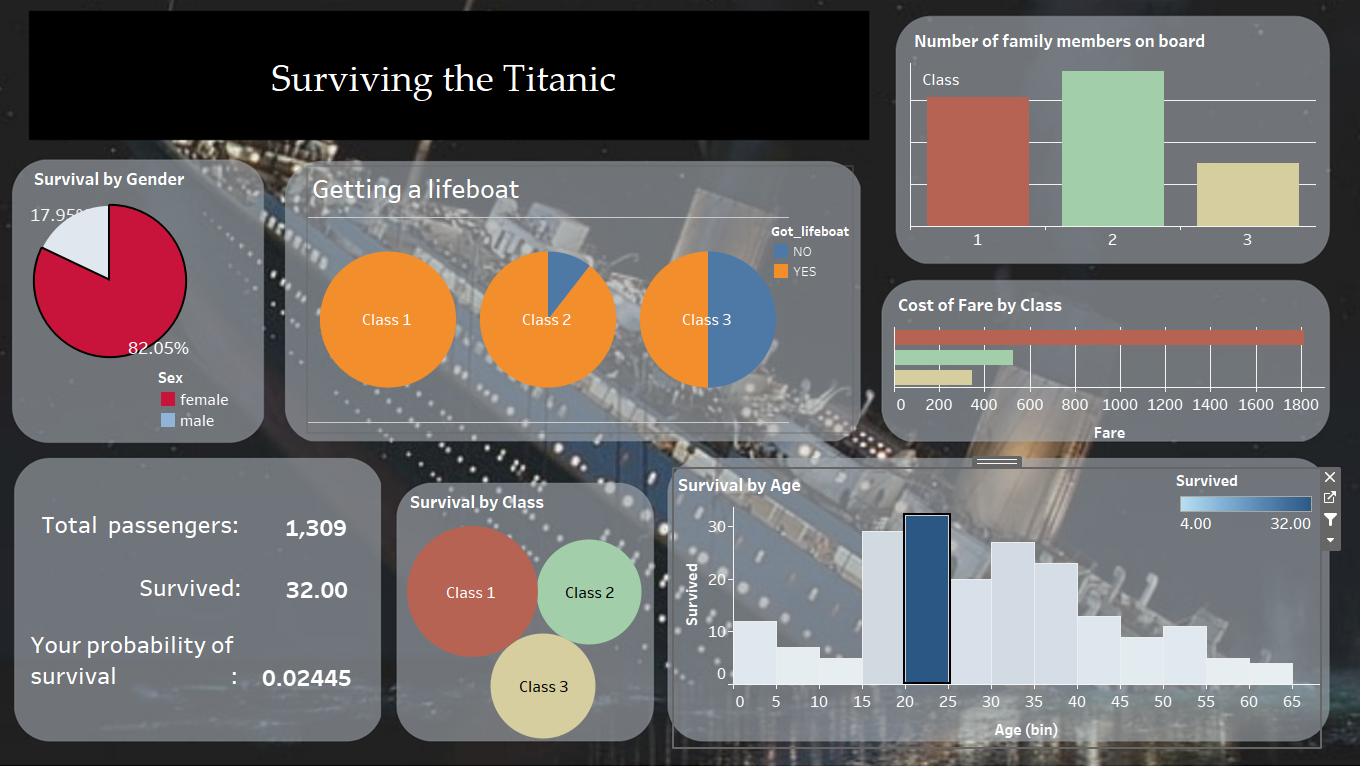

The page's visual inventory and layout, read from the dashboard file:
{"tool":"tableau","page":{"name":"Dashboard 1","canvas":[1366,768],"ordinal":0},"visuals":[{"type":"worksheet","title":"Travelled with Family","mark":"Automatic","rows":["SibSp"],"box":[912,26,406,226]},{"type":"text","box":[36,28,819,101]},{"type":"text","box":[921,65,100,30]},{"type":"worksheet","title":"Gender","mark":"Pie","box":[32,164,223,269]},{"type":"worksheet","title":"Got lifeboat?","mark":"Pie","box":[310,168,544,265]},{"type":"legend","title":"Got lifeboat?","param":"[federated.1swiexp11b0w1x1gsqjgf0mphze9].[none:Calculation_2236037283589627906:n","box":[773,223,121,61]},{"type":"worksheet","title":"Cost of ticket","mark":"Automatic","cols":["Fare"],"box":[896,290,431,193]},{"type":"legend","title":"Gender","param":"[federated.1swiexp11b0w1x1gsqjgf0mphze9].[none:Sex:nk]","box":[160,368,140,64]},{"type":"worksheet","title":"Age","mark":"Automatic","rows":["Survived"],"cols":["Age (bin)"],"box":[676,470,646,278]},{"type":"legend","title":"Age","param":"[federated.1swiexp11b0w1x1gsqjgf0mphze9].[sum:Survived:qk]","box":[1178,471,140,88]},{"type":"worksheet","title":"Survived by class","mark":"Circle","box":[408,487,236,256]},{"type":"text","box":[40,510,210,30]},{"type":"worksheet","title":"Total","mark":"Automatic","box":[274,512,89,39]},{"type":"text","box":[138,572,109,32]},{"type":"worksheet","title":"Survived","mark":"Automatic","box":[275,574,84,35]},{"type":"text","box":[29,629,227,64]},{"type":"worksheet","title":"Probability","mark":"Automatic","box":[259,662,149,43]}]}

Visuals, with their boxes in screenshot pixels (x1, y1, x2, y2), scaled from the page's 1366x768 canvas onto the 1360x766 screenshot:
"Travelled with Family" worksheet: {"x1": 908, "y1": 26, "x2": 1312, "y2": 251}
text: {"x1": 36, "y1": 28, "x2": 851, "y2": 129}
text: {"x1": 917, "y1": 65, "x2": 1017, "y2": 95}
"Gender" worksheet (Pie marks): {"x1": 32, "y1": 164, "x2": 254, "y2": 432}
"Got lifeboat?" worksheet (Pie marks): {"x1": 309, "y1": 168, "x2": 850, "y2": 432}
"Got lifeboat?" legend: {"x1": 770, "y1": 222, "x2": 890, "y2": 283}
"Cost of ticket" worksheet: {"x1": 892, "y1": 289, "x2": 1321, "y2": 482}
"Gender" legend: {"x1": 159, "y1": 367, "x2": 299, "y2": 431}
"Age" worksheet: {"x1": 673, "y1": 469, "x2": 1316, "y2": 746}
"Age" legend: {"x1": 1173, "y1": 470, "x2": 1312, "y2": 558}
"Survived by class" worksheet (Circle marks): {"x1": 406, "y1": 486, "x2": 641, "y2": 741}
text: {"x1": 40, "y1": 509, "x2": 249, "y2": 539}
"Total" worksheet: {"x1": 273, "y1": 511, "x2": 361, "y2": 550}
text: {"x1": 137, "y1": 571, "x2": 246, "y2": 602}
"Survived" worksheet: {"x1": 274, "y1": 573, "x2": 357, "y2": 607}
text: {"x1": 29, "y1": 627, "x2": 255, "y2": 691}
"Probability" worksheet: {"x1": 258, "y1": 660, "x2": 406, "y2": 703}
